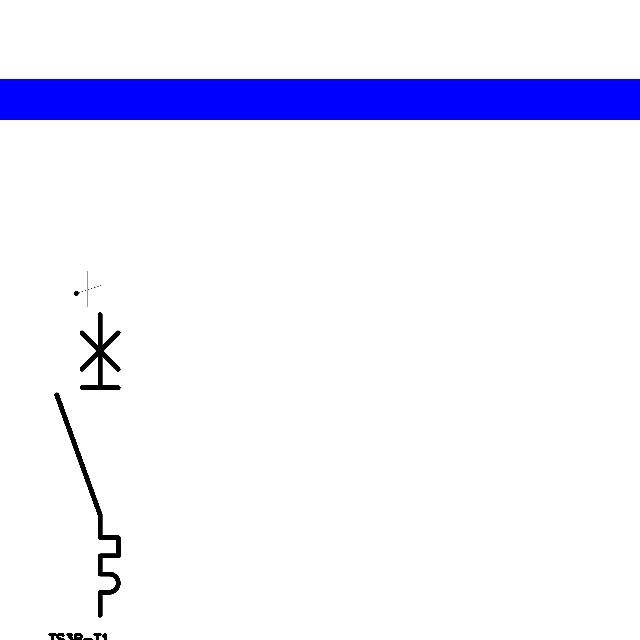interruptor_termomagnetico: (49, 306, 126, 623)
